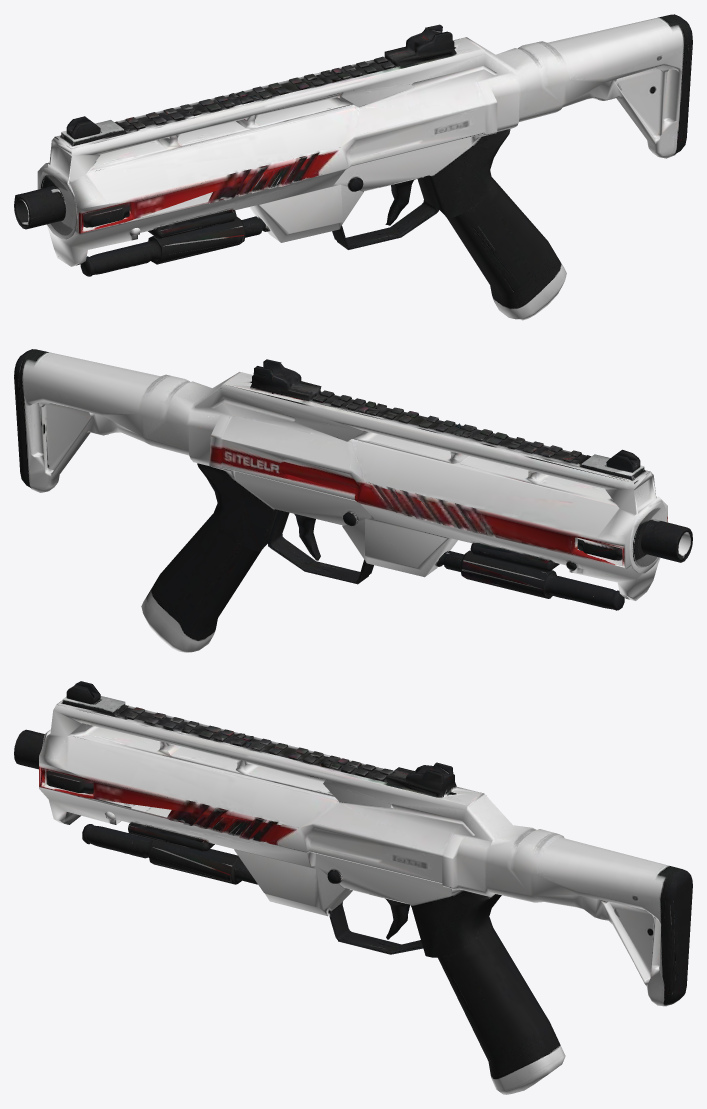
Rendered from w_carbine.glb.
3 renders of one model, top to bottom at view 1: azimuth 30°, elevation 25°; view 2: azimuth 150°, elevation 25°; view 3: azimuth 330°, elevation 25°, orthographic.
Size of the model in its own units: 0.9575 by 0.417 by 0.1133.
Materials: 1 (1 with a texture image).
